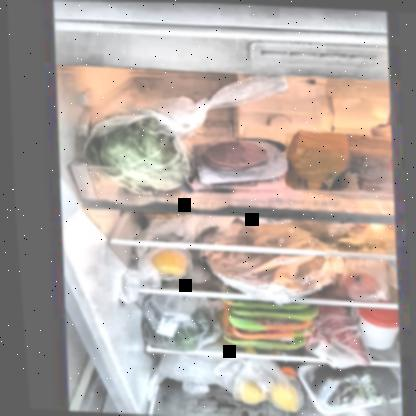broccoli: (303, 362, 396, 406)
chicken: (221, 299, 308, 348)
lemon: (146, 249, 187, 277), (264, 382, 300, 410), (227, 378, 261, 403)
lettuce: (87, 118, 186, 188)
salami: (203, 140, 267, 169)
tomato: (336, 270, 379, 298)
